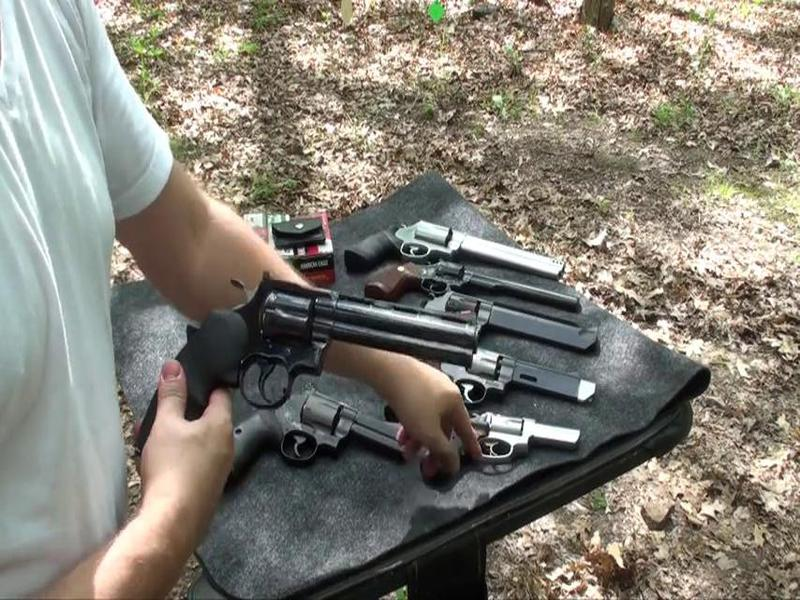Revolver: (184, 260, 507, 426)
